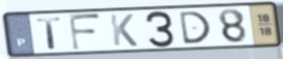3: (142, 9, 175, 49)
8: (217, 8, 248, 45)
D: (177, 10, 213, 46)
F: (66, 13, 104, 52)
K: (108, 13, 140, 48)
T: (34, 16, 64, 51)
